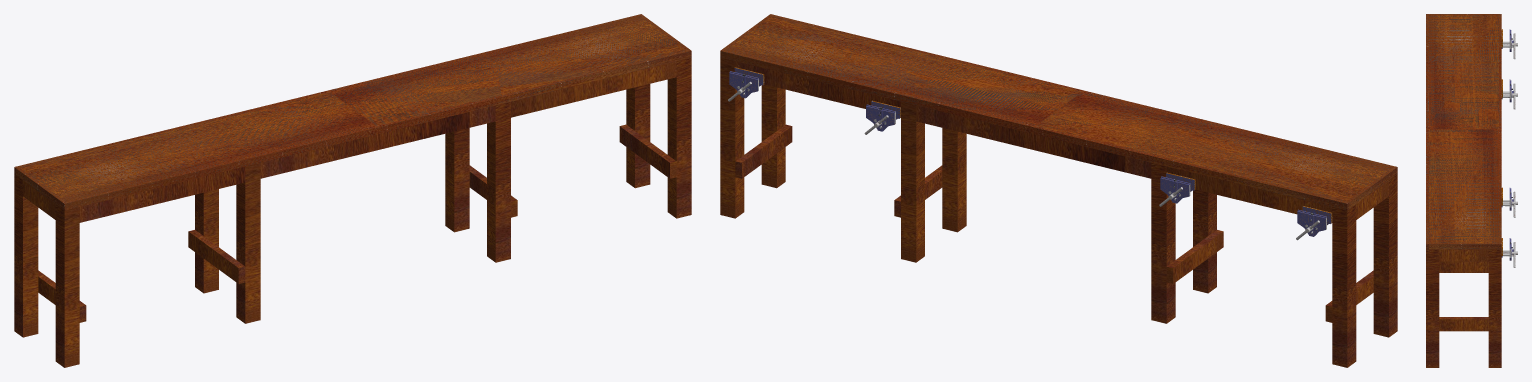
The picture shows the model from 3 angles, left to right: view 1: azimuth 30°, elevation 25°; view 2: azimuth 150°, elevation 25°; view 3: azimuth 270°, elevation 25°; orthographic projection. The views are drawn at different scales.
Parts seen in each view (by area): view 1: mesh15_mesh15-geometry, mesh7_mesh7-geometry, mesh9_mesh9-geometry, mesh1_mesh1-geometry, mesh11_mesh11-geometry, mesh13_mesh13-geometry, mesh10_mesh10-geometry, mesh3_mesh3-geometry; view 2: mesh15_mesh15-geometry, mesh7_mesh7-geometry, mesh9_mesh9-geometry, mesh1_mesh1-geometry, mesh11_mesh11-geometry, mesh13_mesh13-geometry, mesh22_mesh22-geometry, mesh21_mesh21-geometry, mesh10_mesh10-geometry, mesh3_mesh3-geometry; view 3: mesh15_mesh15-geometry, mesh7_mesh7-geometry, mesh9_mesh9-geometry, mesh13_mesh13-geometry, mesh3_mesh3-geometry, mesh10_mesh10-geometry, mesh29_mesh29-geometry, mesh21_mesh21-geometry, mesh25_mesh25-geometry, mesh18_mesh18-geometry, mesh28_mesh28-geometry.
Part boxes in pixels (left/top/right/bottom): mesh15_mesh15-geometry: left=20, top=16, right=686, bottom=201; mesh7_mesh7-geometry: left=14, top=57, right=691, bottom=367; mesh9_mesh9-geometry: left=14, top=14, right=691, bottom=210; mesh1_mesh1-geometry: left=79, top=61, right=676, bottom=222; mesh11_mesh11-geometry: left=260, top=105, right=495, bottom=178; mesh13_mesh13-geometry: left=38, top=124, right=676, bottom=322; mesh10_mesh10-geometry: left=16, top=15, right=689, bottom=208; mesh3_mesh3-geometry: left=23, top=180, right=55, bottom=219; mesh15_mesh15-geometry: left=725, top=16, right=1391, bottom=201; mesh7_mesh7-geometry: left=720, top=57, right=1397, bottom=367; mesh9_mesh9-geometry: left=720, top=14, right=1397, bottom=210; mesh1_mesh1-geometry: left=735, top=61, right=1332, bottom=214; mesh11_mesh11-geometry: left=916, top=105, right=1151, bottom=178; mesh13_mesh13-geometry: left=735, top=124, right=1373, bottom=322; mesh22_mesh22-geometry: left=743, top=75, right=1326, bottom=236; mesh21_mesh21-geometry: left=729, top=71, right=1311, bottom=236; mesh10_mesh10-geometry: left=722, top=15, right=1395, bottom=208; mesh3_mesh3-geometry: left=1356, top=180, right=1388, bottom=219; mesh15_mesh15-geometry: left=1429, top=15, right=1498, bottom=243; mesh7_mesh7-geometry: left=1426, top=249, right=1501, bottom=367; mesh9_mesh9-geometry: left=1426, top=14, right=1501, bottom=249; mesh13_mesh13-geometry: left=1439, top=261, right=1488, bottom=331; mesh3_mesh3-geometry: left=1439, top=249, right=1488, bottom=261; mesh10_mesh10-geometry: left=1429, top=14, right=1498, bottom=249; mesh29_mesh29-geometry: left=1513, top=33, right=1515, bottom=267; mesh21_mesh21-geometry: left=1509, top=34, right=1511, bottom=260; mesh25_mesh25-geometry: left=1503, top=41, right=1509, bottom=255; mesh18_mesh18-geometry: left=1501, top=34, right=1502, bottom=257; mesh28_mesh28-geometry: left=1511, top=43, right=1517, bottom=254.
Bounding box in the file's own units: 0.9575 × 0.2394 × 0.1612.
